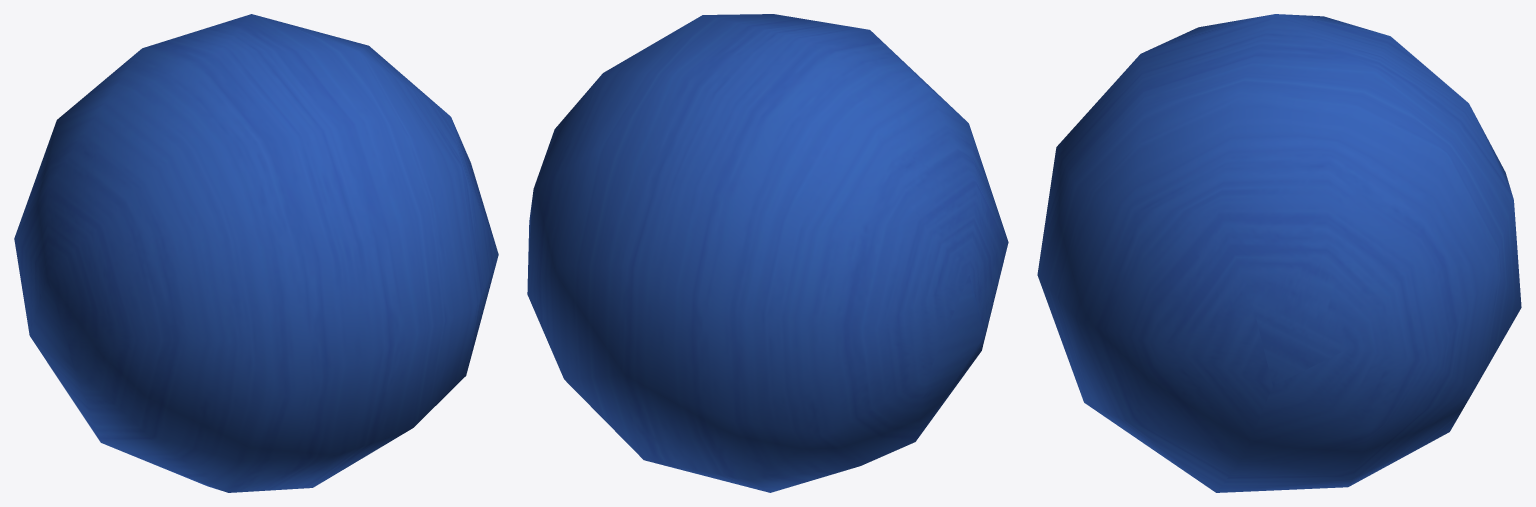
3 renders of one model, left to right at view 1: azimuth 30°, elevation 25°; view 2: azimuth 150°, elevation 25°; view 3: azimuth 270°, elevation 25°, orthographic. The views are drawn at different scales.
Parts seen in each view (by area): view 1: SonicBall; view 2: SonicBall; view 3: SonicBall.
Boxes of the visible parts, bbox=[...] form: SonicBall: bbox=[14, 14, 498, 492]; SonicBall: bbox=[527, 14, 1008, 492]; SonicBall: bbox=[1037, 14, 1521, 492].
Bounding box in the file's own units: 468 × 464 × 466.
Materials: 1 (1 with a texture image).
